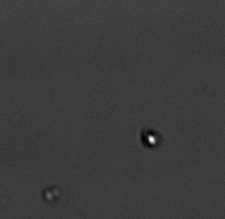Living Cell: (140, 128, 162, 150)
